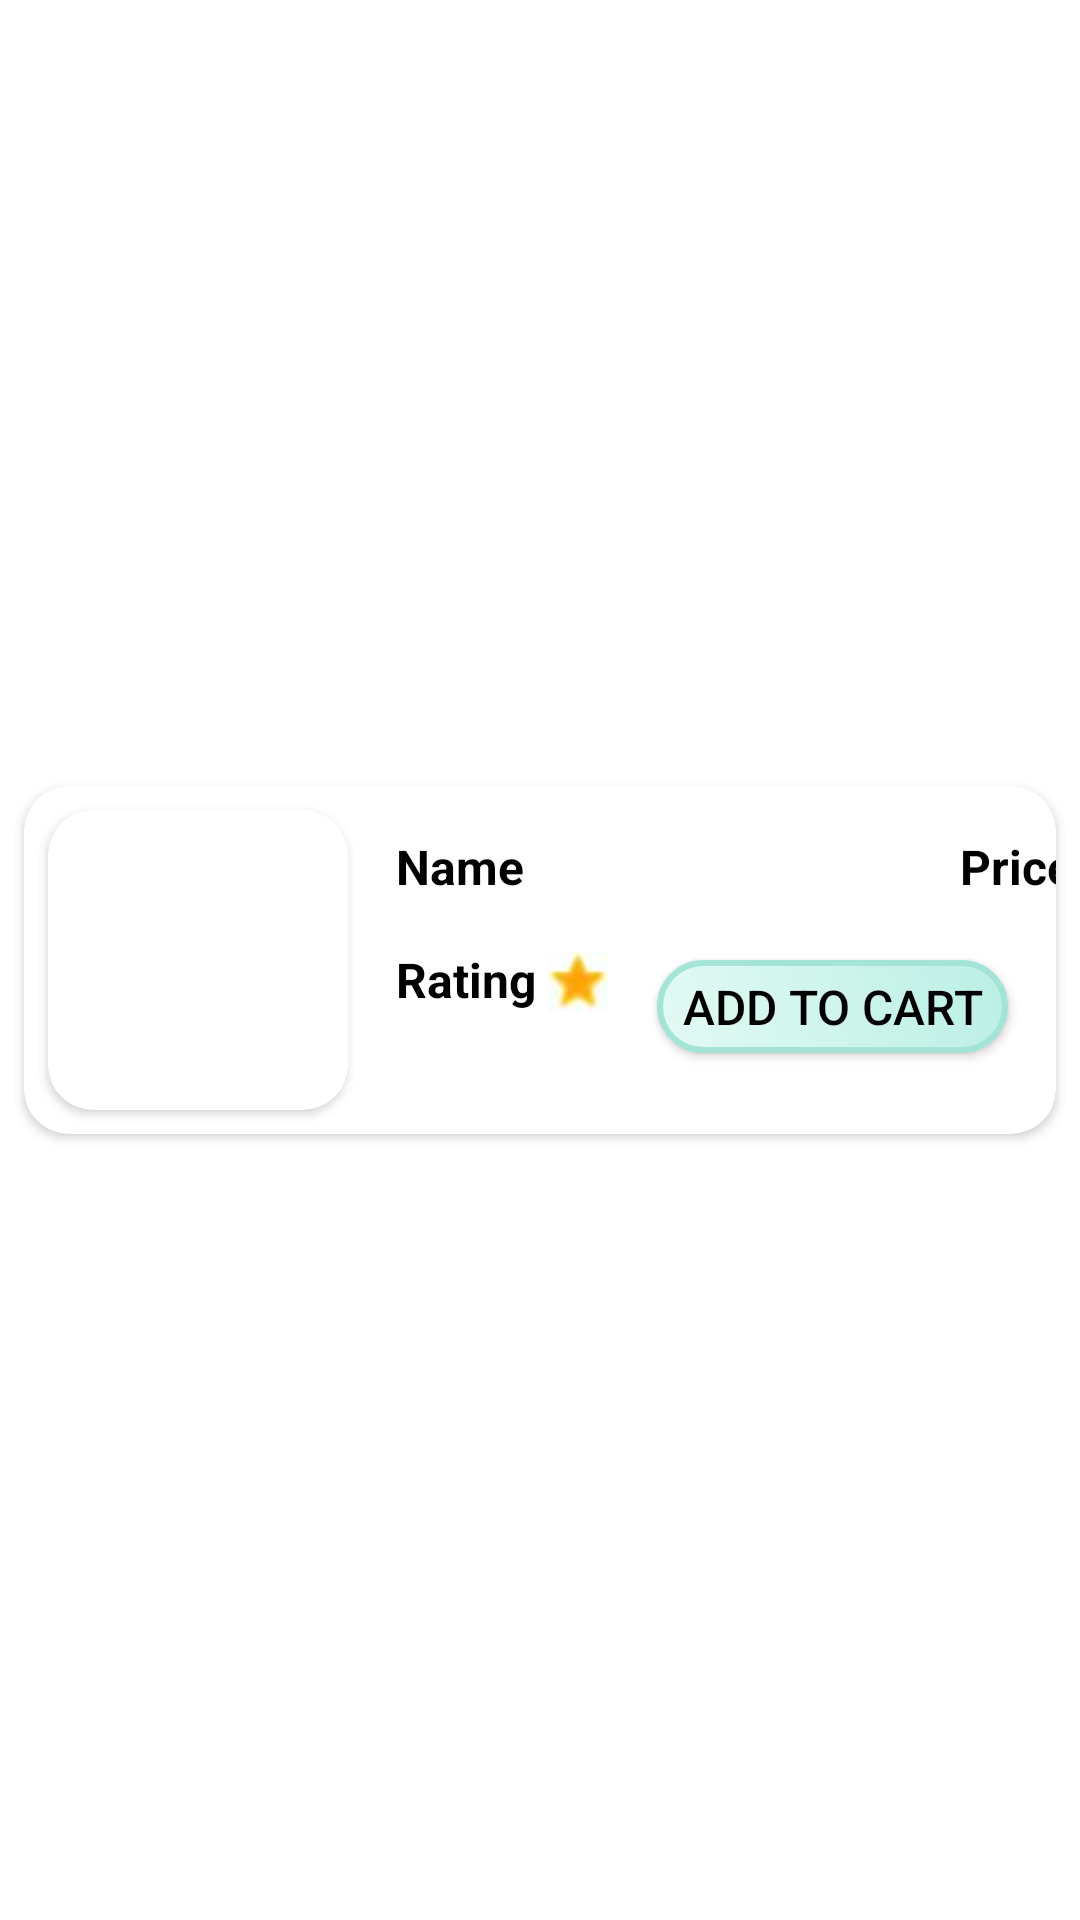

Icon bounding boxes for this 1080px x 1920px phone screenshot, format [x1=x1, y1=y1, x2=x2, y2=y2]:
star full: [x1=548, y1=952, x2=608, y2=1008]
